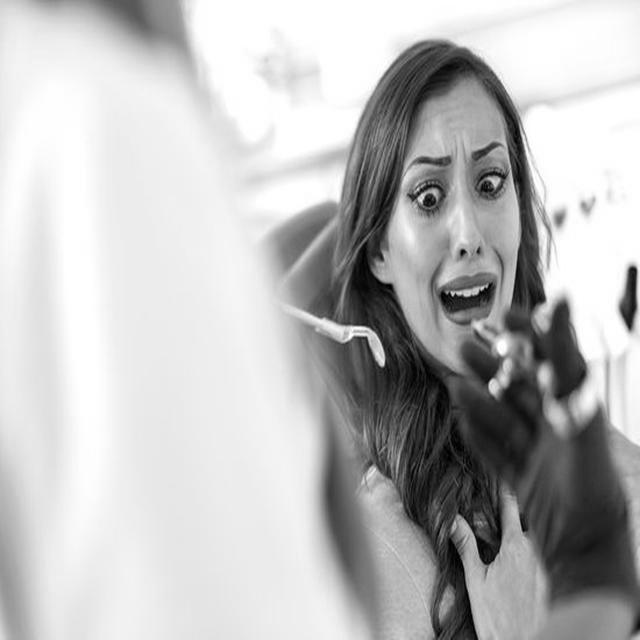Fear: (401, 85, 523, 377)
